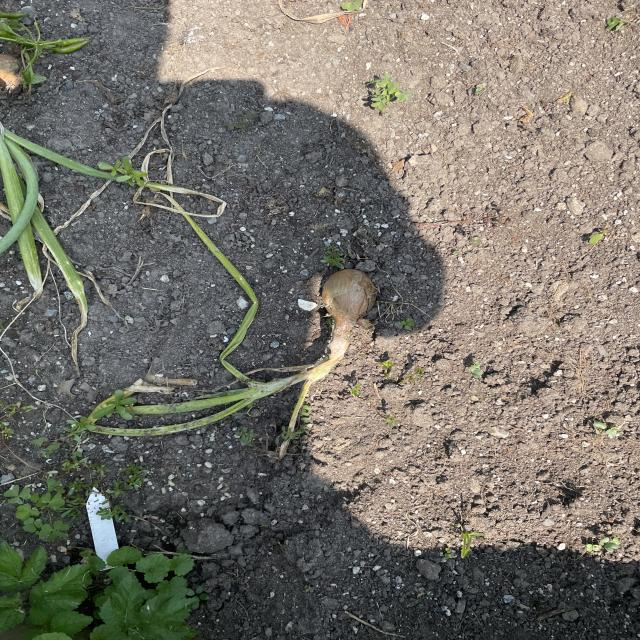Onion: (104, 262, 398, 450), (0, 121, 110, 307)
weed: (8, 382, 142, 540), (358, 70, 419, 108)
